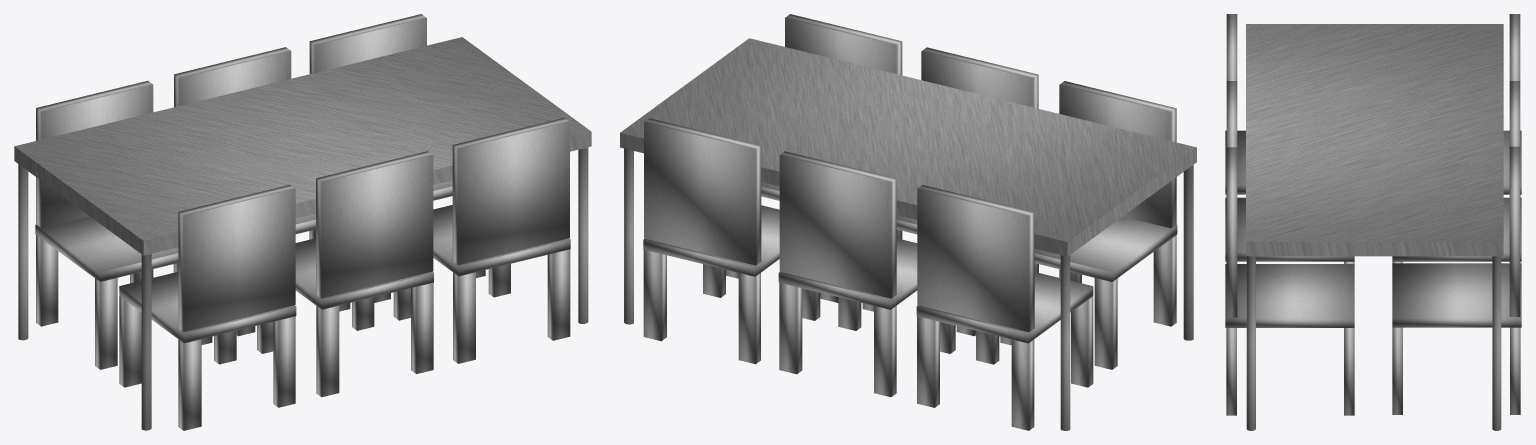
Rendered from dinnertable.obj.
3 renders of one model, left to right at view 1: azimuth 30°, elevation 25°; view 2: azimuth 150°, elevation 25°; view 3: azimuth 270°, elevation 25°, orthographic.
Parts seen in each view (by area): view 1: Cube.003, Cube.006_Cube.000, Cube.006_Cube.001, Cube.006_Cube.002, Cube.006_Cube.004, Cube.006, Cube.006_Cube.003, Cube.006_Cube.007, Cube.000, Cube.002, Cube.004, Cube.004_Cube.001 (+14 smaller); view 2: Cube.003, Cube.006_Cube.004, Cube.006_Cube.003, Cube.006_Cube.007, Cube.006_Cube.000, Cube.000, Cube.006_Cube.002, Cube.006_Cube.001, Cube.006, Cube.001, Cube.005, Cube_Cube.000 (+15 smaller); view 3: Cube.003, Cube.005, Cube.004, Cube.006_Cube.002, Cube.006_Cube.003, Cylinder.003, Cylinder.002, Cube.002, Cube.001, Cube_Cube.004, Cube.004_Cube.003, Cube.002_Cube.002 (+7 smaller).
Part boxes in pixels (bbox=[...]): Cube.003: bbox=[14, 37, 591, 255]; Cube.006_Cube.000: bbox=[178, 185, 295, 332]; Cube.006_Cube.001: bbox=[316, 151, 433, 298]; Cube.006_Cube.002: bbox=[452, 117, 569, 265]; Cube.006_Cube.004: bbox=[36, 81, 153, 228]; Cube.006: bbox=[35, 216, 178, 281]; Cube.006_Cube.003: bbox=[309, 14, 426, 73]; Cube.006_Cube.007: bbox=[174, 47, 291, 107]; Cube.000: bbox=[119, 272, 296, 343]; Cube.002: bbox=[295, 238, 433, 309]; Cube.004: bbox=[433, 205, 570, 276]; Cube.004_Cube.001: bbox=[316, 305, 339, 397]; Cube.003: bbox=[620, 38, 1196, 256]; Cube.006_Cube.004: bbox=[917, 185, 1034, 332]; Cube.006_Cube.003: bbox=[644, 118, 761, 265]; Cube.006_Cube.007: bbox=[779, 151, 896, 298]; Cube.006_Cube.000: bbox=[1059, 81, 1176, 228]; Cube.000: bbox=[1034, 216, 1177, 281]; Cube.006_Cube.002: bbox=[785, 14, 902, 75]; Cube.006_Cube.001: bbox=[921, 47, 1038, 108]; Cube.006: bbox=[916, 272, 1093, 343]; Cube.001: bbox=[778, 238, 917, 309]; Cube.005: bbox=[643, 205, 779, 276]; Cube_Cube.000: bbox=[1094, 278, 1117, 369]; Cube.003: bbox=[1246, 24, 1503, 256]; Cube.005: bbox=[1392, 263, 1521, 327]; Cube.004: bbox=[1225, 264, 1354, 327]; Cube.006_Cube.002: bbox=[1226, 147, 1237, 317]; Cube.006_Cube.003: bbox=[1509, 146, 1520, 316]; Cylinder.003: bbox=[1492, 256, 1501, 430]; Cylinder.002: bbox=[1246, 256, 1255, 430]; Cube.002: bbox=[1225, 197, 1354, 261]; Cube.001: bbox=[1392, 197, 1521, 261]; Cube_Cube.004: bbox=[1392, 327, 1402, 414]; Cube.004_Cube.003: bbox=[1510, 327, 1520, 414]; Cube.002_Cube.002: bbox=[1344, 328, 1354, 415].
Size of the model in its own units: 2.4 by 1.1 by 1.38.
